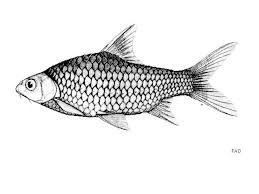Silver Barb: (17, 23, 239, 130)
